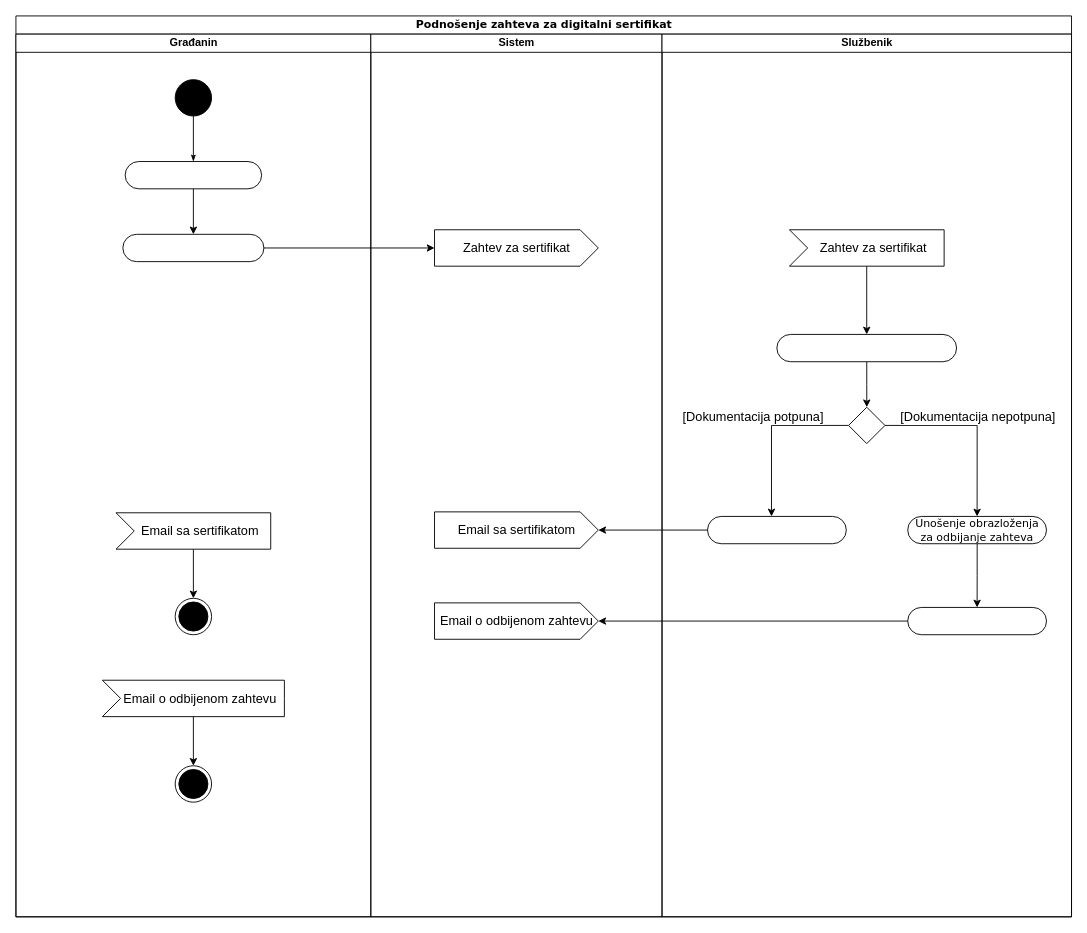
The diagram is 1087 pixels wide and 933 high, and some of its shapes have lost their labels. The centre of each missing label's shape, as x and y in pixels:
Odbijanje zahteva: the point at 976,621
Popunjavanje forme: the point at 193,175
Pregled dokumentacije o vakcinaciji za datog građanina: the point at 866,348
Prihvatanje zahteva: the point at 776,530
Slanje forme: the point at 193,247
